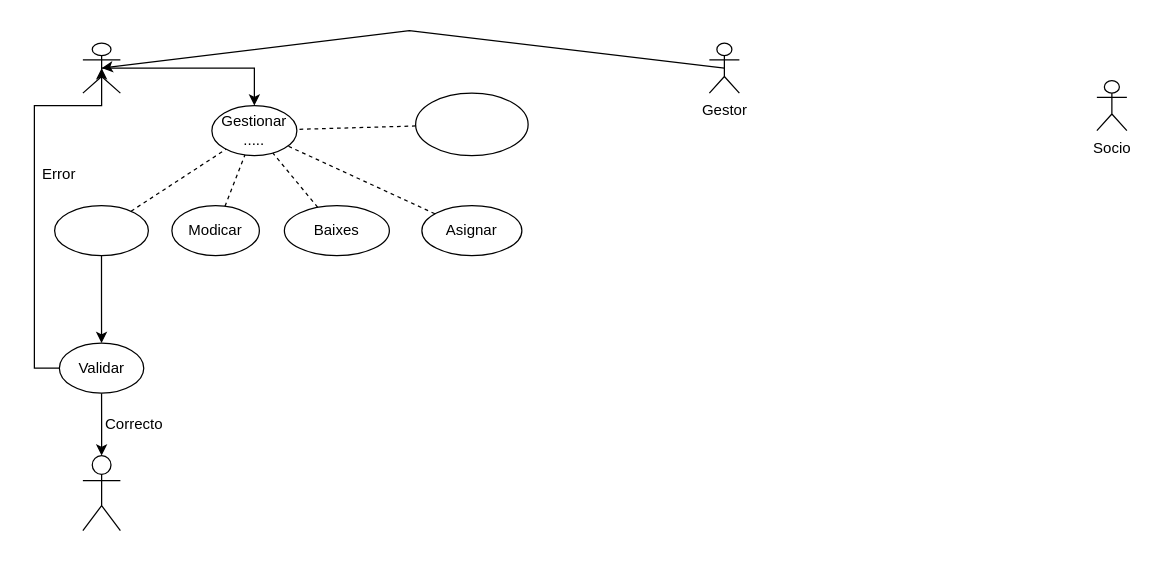
The diagram is 1151 pixels wide and 579 high, and some of its shapes have lost their labels. The shapes that lost their labels are listed below. From the top down, each one's centre as x and y in pixels, then its label:
At point 101,67: "Administrador".
At point 471,124: "Notificaciones".
At point 100,230: "Registrar".
At point 101,492: "BD".
